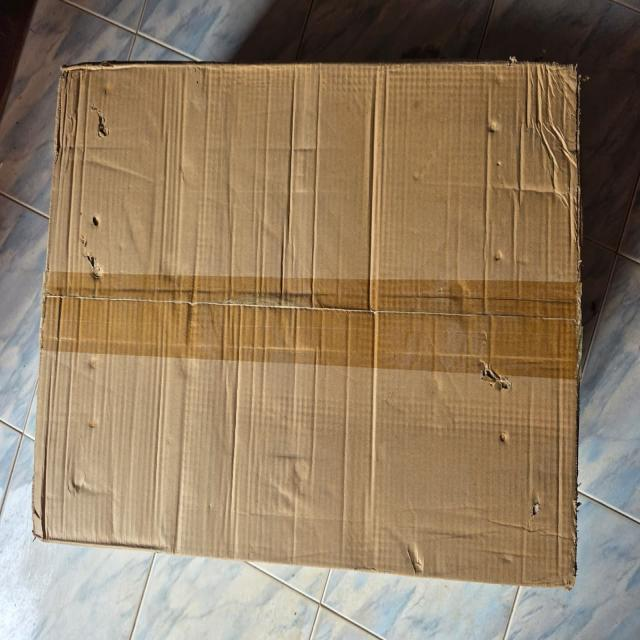carton_box: (24, 44, 597, 609)
package_damage: (568, 53, 590, 384), (83, 78, 116, 296), (473, 68, 510, 157), (478, 358, 518, 406), (484, 418, 518, 464), (484, 227, 511, 280), (520, 485, 546, 527)
